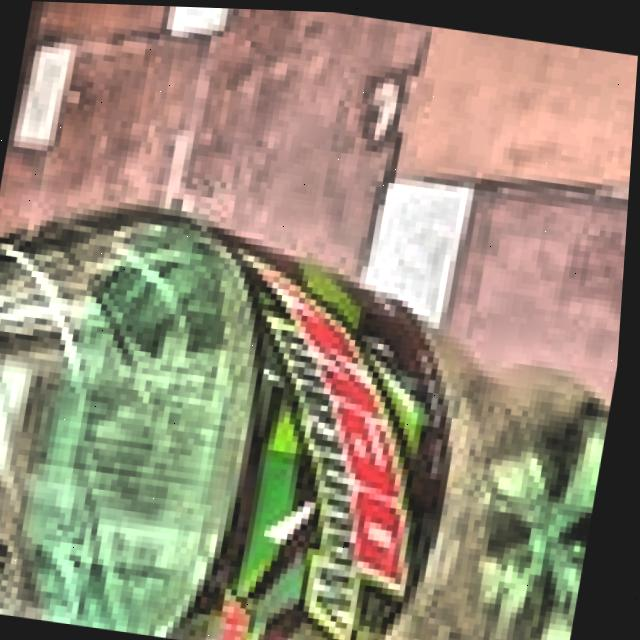plastic: (0, 172, 631, 640)
